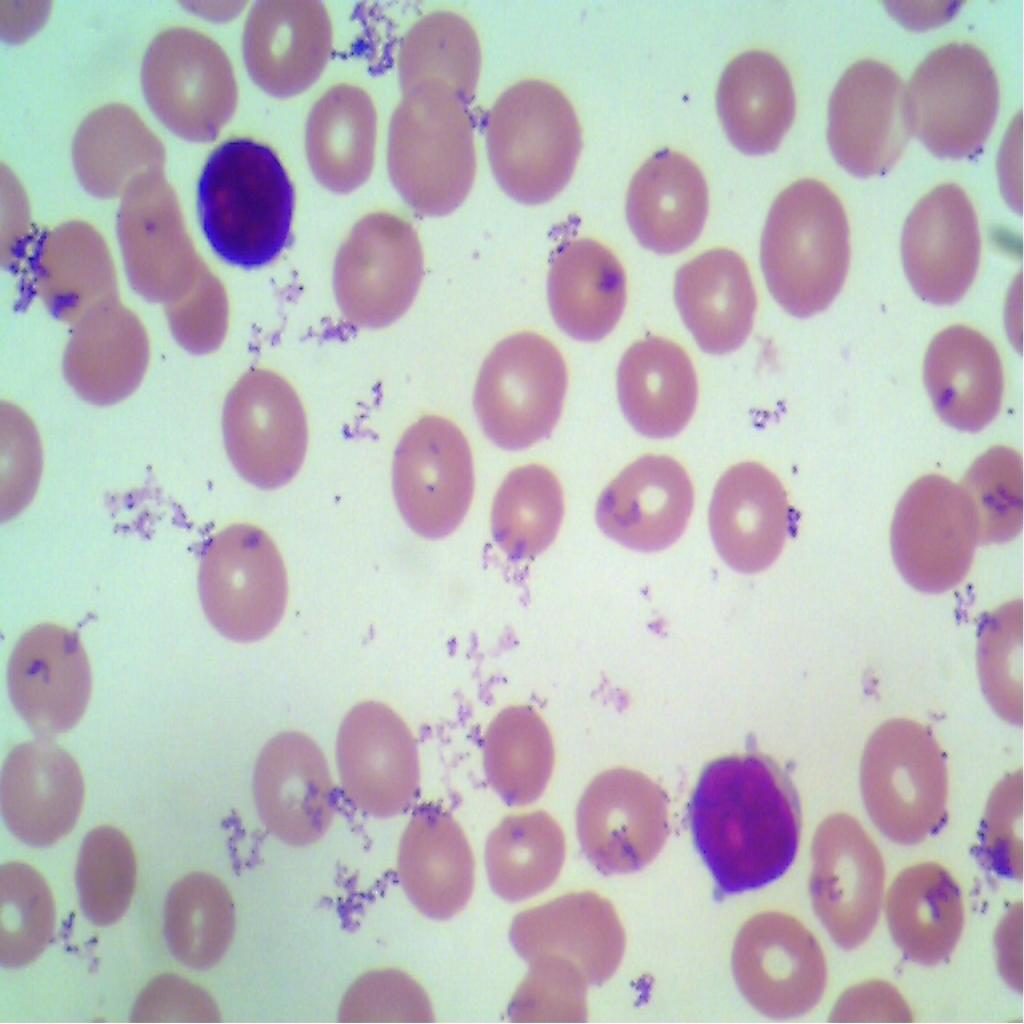Eritrosit: (754, 171, 858, 325), (888, 184, 1006, 314), (378, 77, 482, 221), (818, 50, 923, 186), (194, 504, 290, 650), (900, 31, 1010, 158), (329, 205, 431, 341), (859, 708, 954, 852), (470, 321, 574, 451), (388, 401, 478, 547), (486, 72, 586, 202), (535, 224, 631, 354), (136, 23, 238, 144), (218, 365, 318, 488), (578, 752, 673, 877), (593, 440, 693, 558), (886, 462, 975, 594), (703, 52, 811, 159), (701, 455, 793, 578), (51, 302, 161, 404), (508, 881, 621, 980), (3, 622, 99, 738), (729, 904, 830, 1014), (806, 806, 884, 948), (29, 192, 116, 319), (335, 695, 424, 818), (914, 315, 1003, 437), (238, 0, 340, 106), (666, 249, 768, 355), (66, 94, 163, 205), (615, 321, 703, 442), (119, 170, 202, 298), (623, 141, 714, 257), (146, 244, 236, 358), (248, 735, 338, 847), (298, 82, 384, 199), (390, 0, 480, 106), (0, 737, 88, 842), (886, 857, 964, 974), (403, 801, 476, 921), (159, 864, 242, 967), (949, 429, 1023, 542), (483, 456, 562, 561), (71, 821, 146, 930), (478, 692, 554, 799), (478, 811, 568, 901), (0, 864, 66, 974), (514, 951, 586, 1023)
Limfoblast: (686, 744, 806, 906), (195, 134, 301, 272)
